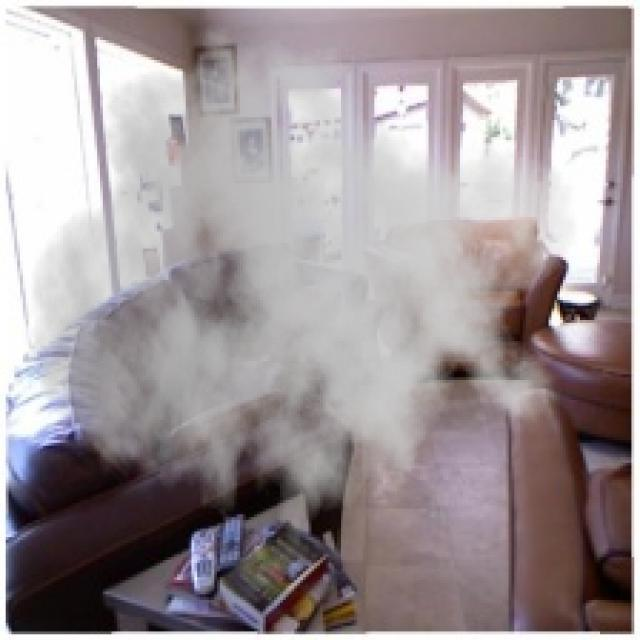Smoke: (28, 11, 580, 572)
